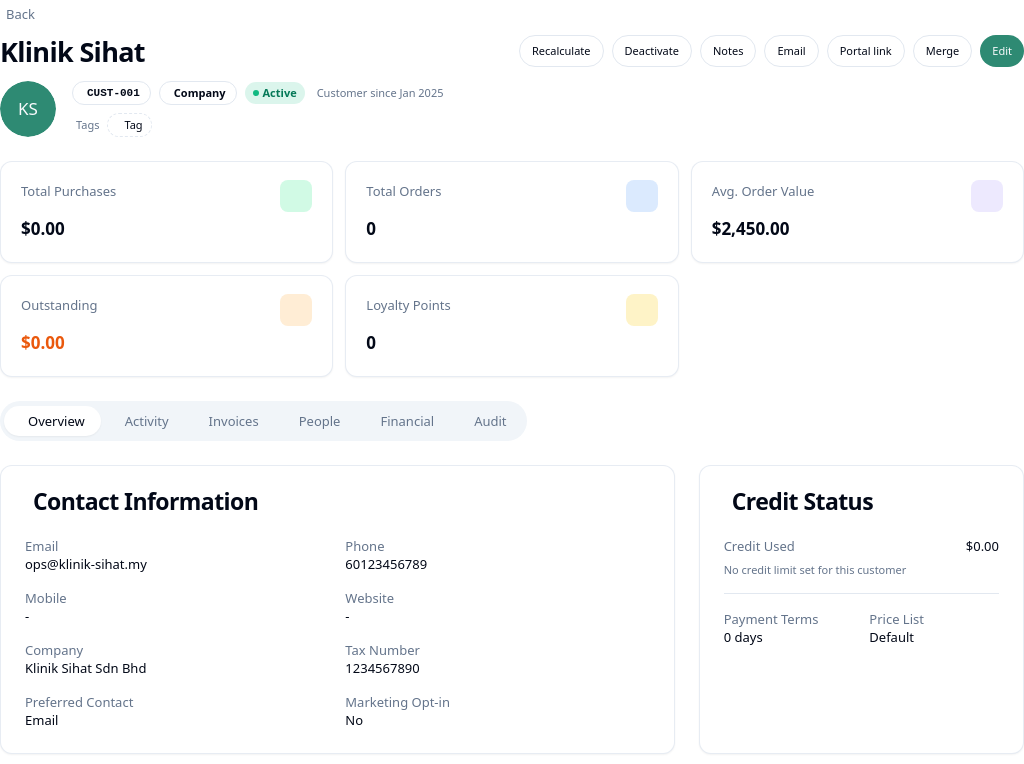
Test: CustomerDetailsPage — unapplied payments (#488) › lists the payments still holding unapplied credit on the invoices tab
Press the mouse on the tab "Invoices" at (230, 421), box [185, 406, 275, 436]
(page scrolled)
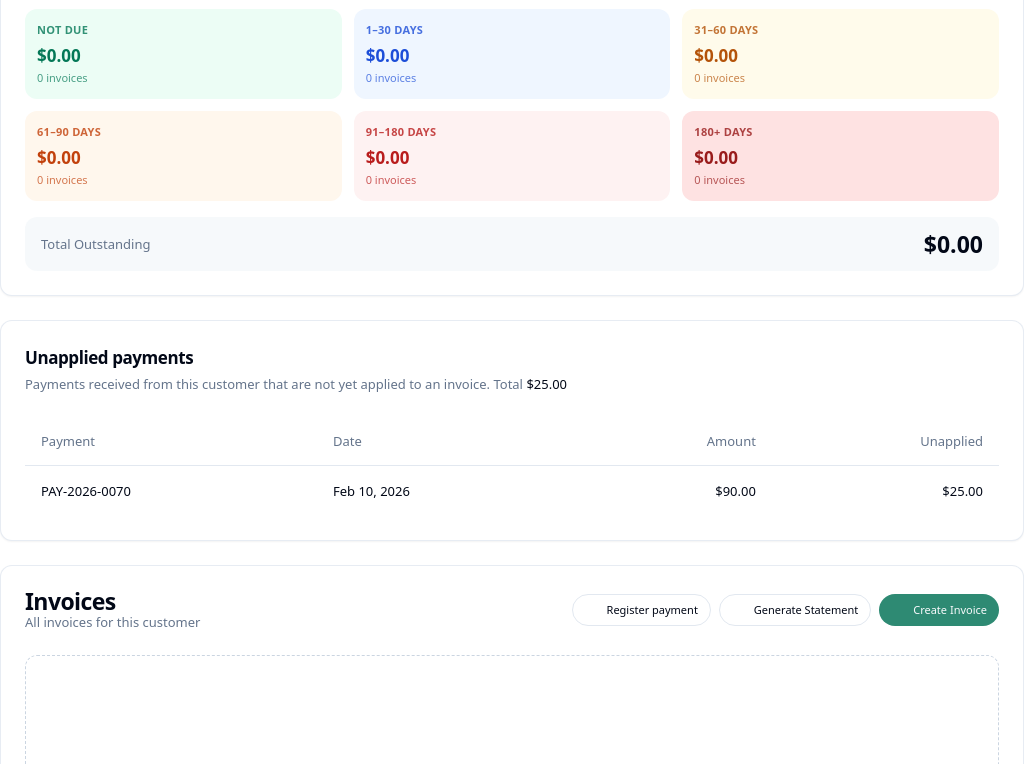
expect the text "PAY-2026-0070" is shown: met, box [25, 465, 317, 516]
expect the text with test id "unapplied-credits-total" shows "25.00": met, box [526, 375, 567, 393]
